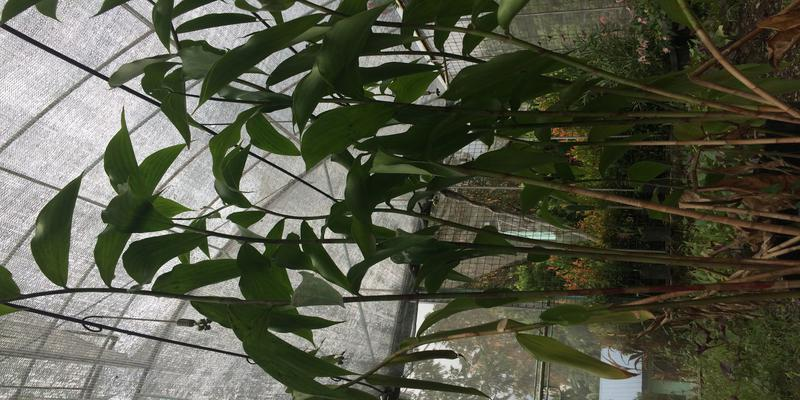Insulin: (207, 17, 734, 319)
